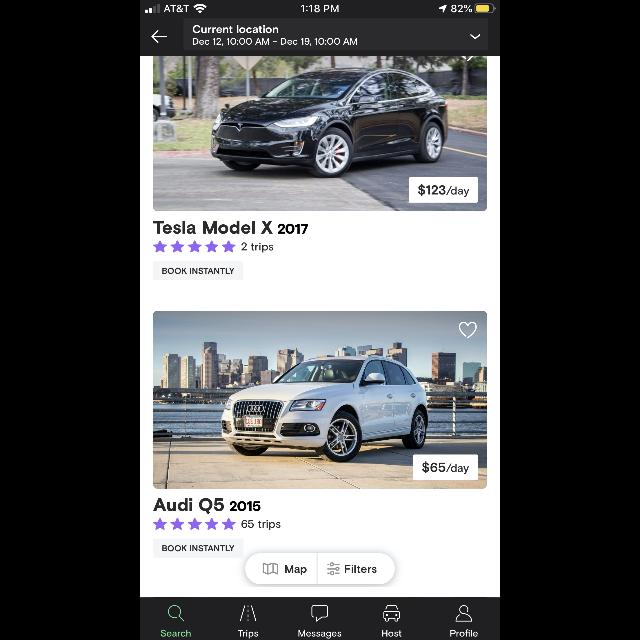icon: (154, 240, 236, 253), (153, 518, 235, 530), (459, 322, 477, 338), (168, 604, 184, 622), (312, 604, 328, 622), (456, 604, 472, 622), (151, 31, 167, 44), (470, 34, 480, 40)
image: (154, 311, 486, 489), (154, 56, 486, 212), (384, 604, 401, 622), (240, 605, 256, 621)
text: (154, 222, 308, 234), (153, 498, 261, 514), (193, 38, 357, 46), (193, 24, 279, 34), (418, 184, 468, 196), (422, 462, 470, 474), (242, 520, 280, 530), (298, 630, 342, 638), (241, 243, 273, 253), (450, 629, 478, 637), (161, 630, 191, 636), (238, 630, 258, 638), (382, 630, 402, 636)
textbutton: (318, 554, 396, 584), (246, 554, 316, 584), (153, 538, 243, 558), (153, 262, 243, 280)
uppertaskbar: (140, 0, 500, 14)
